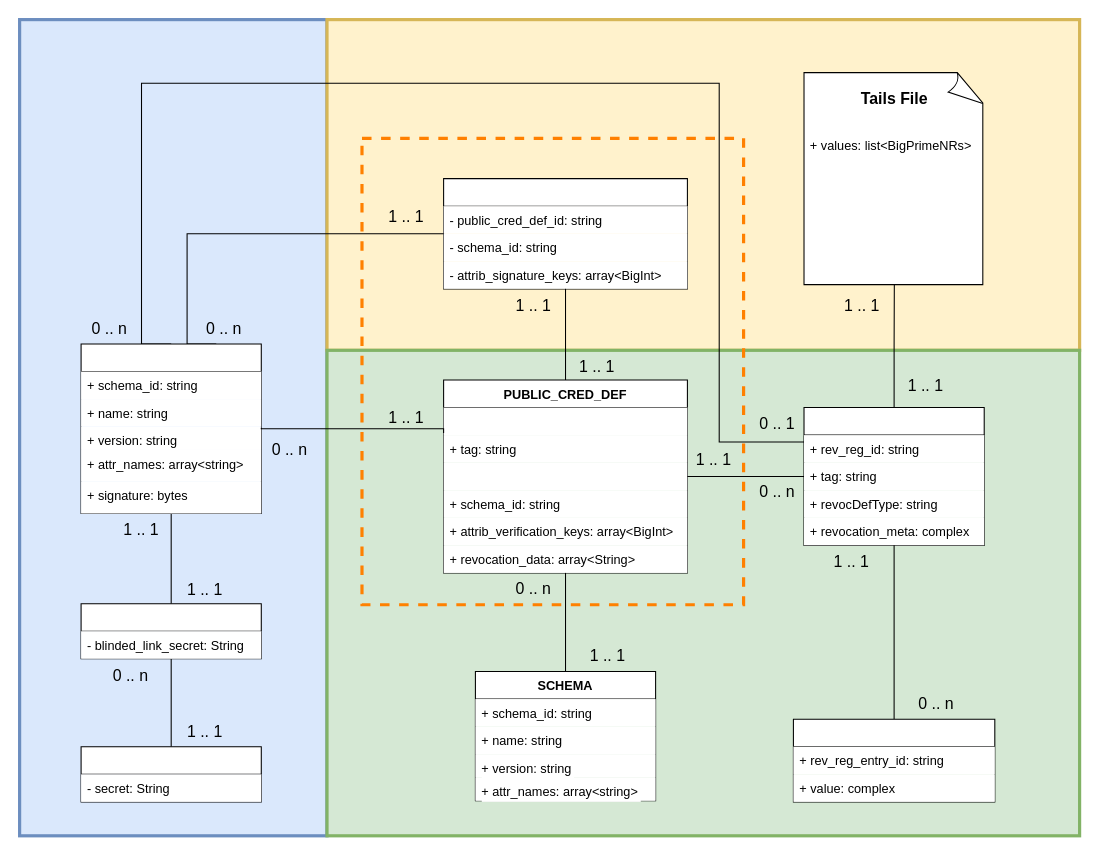
This 1099x855 diagram has some shape labels left out. The shapes that lost their labels are listed below. From the top down, each one's box as (x1, y1, x2, y2) in pixels, then its label:
(325, 17, 1081, 351): Issuer
(443, 178, 687, 289): PRIVATE_CRED_DEF
(360, 136, 745, 606): Credential Definition
(80, 343, 261, 514): AnonCred Credential
(17, 17, 328, 837): Holder
(443, 407, 687, 435): + public_cred_def_id: string
(443, 462, 687, 490): + signature_type: string
(803, 407, 984, 545): Revocation Registry
(325, 348, 1081, 837): VDR
(80, 603, 261, 659): Blinded Linked Secret
(80, 746, 261, 802): Link Secret
(792, 718, 995, 802): Revocation Registry Entry
